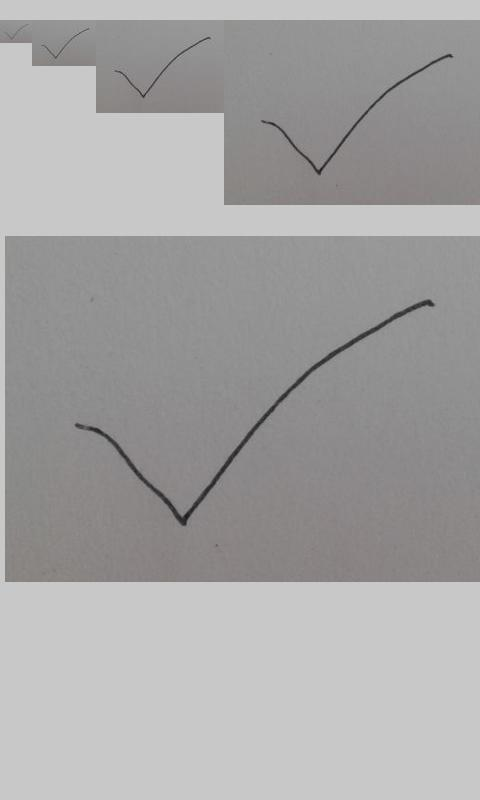check_box: (79, 297, 419, 524), (260, 53, 451, 177), (114, 36, 211, 98), (41, 28, 88, 59), (4, 24, 28, 40)
